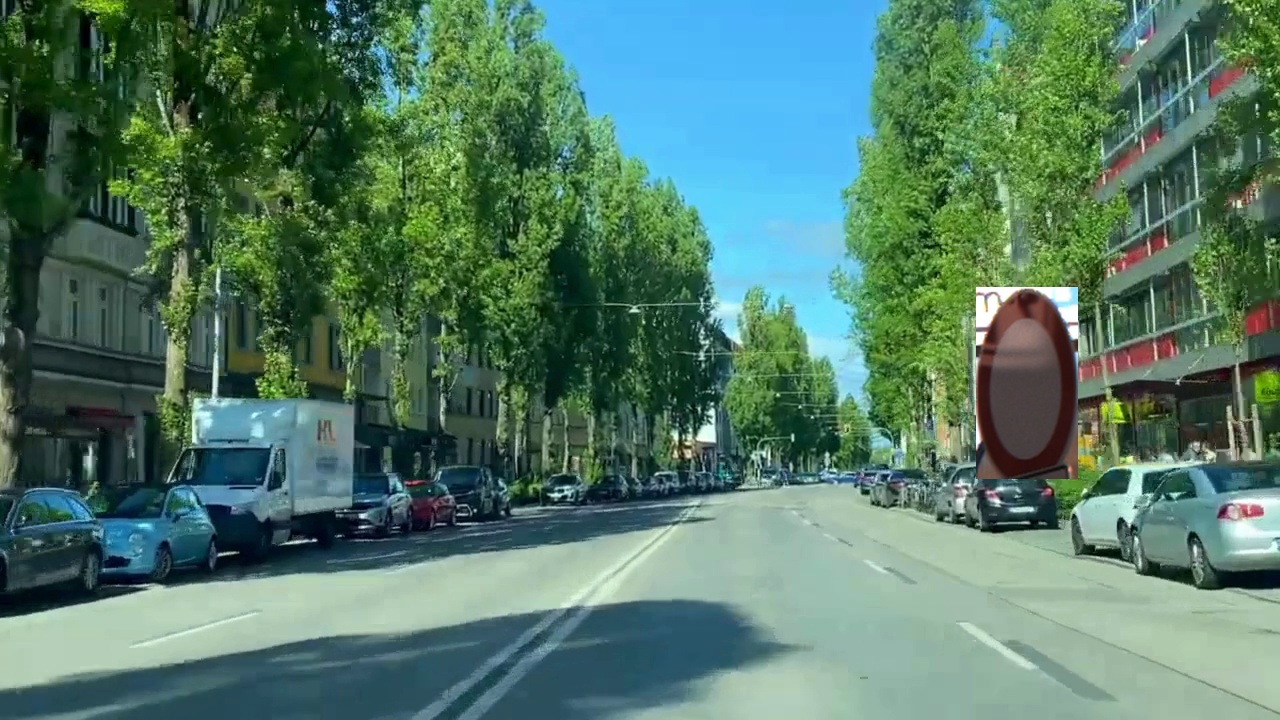No vehicles: (976, 287, 1078, 479)
